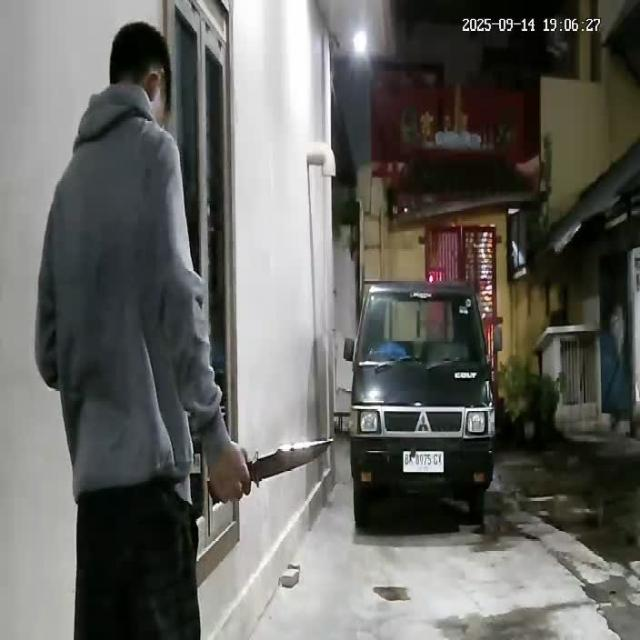senjata_tajam: (250, 435, 335, 487)
